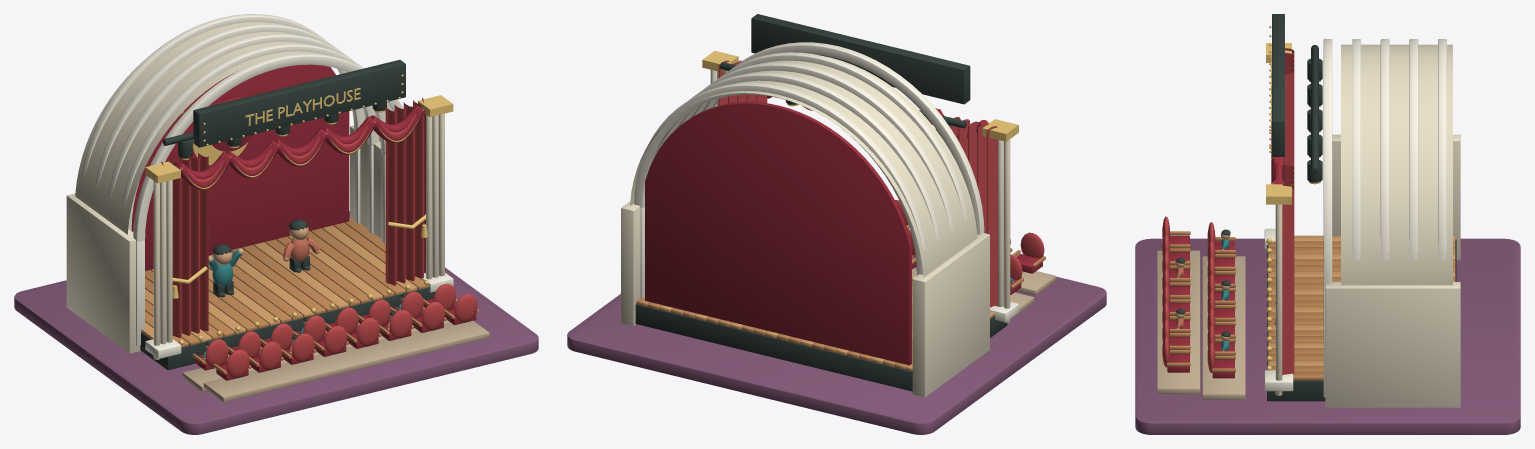
Rendered from playhouse.glb.
3 views of the same model, side by side, from view 1: azimuth 30°, elevation 25°; view 2: azimuth 150°, elevation 25°; view 3: azimuth 270°, elevation 25° (orthographic). The views are drawn at different scales.
Parts seen in each view (by area): view 1: Ivory, Velvet, Velvet Light, Plum, Porcelain, Dark, Maple, Sand, Maple Light, Gold, Teal, Terracotta (+1 smaller); view 2: Velvet, Ivory, Plum, Porcelain, Dark, Velvet Light, Maple, Gold, Sand, Maple Light; view 3: Ivory, Plum, Porcelain, Maple, Sand, Velvet Light, Dark, Velvet, Maple Light, Gold.
Part boxes in pixels (x1,y1,x2,y2): Ivory: (66, 22, 444, 359); Velvet: (131, 64, 476, 380); Velvet Light: (161, 98, 477, 378); Plum: (14, 211, 538, 434); Porcelain: (81, 14, 453, 358); Dark: (140, 59, 435, 370); Maple: (145, 218, 478, 374); Sand: (182, 320, 489, 401); Maple Light: (141, 225, 417, 342); Gold: (145, 74, 453, 345); Teal: (203, 249, 401, 357); Terracotta: (283, 237, 389, 352); Velvet: (645, 60, 1042, 365); Ivory: (621, 57, 1010, 397); Plum: (567, 266, 1106, 434); Porcelain: (634, 42, 1019, 322); Dark: (635, 14, 1007, 391); Velvet Light: (718, 60, 1044, 307); Maple: (636, 224, 1045, 369); Gold: (702, 51, 1018, 281); Sand: (912, 266, 1056, 317); Maple Light: (659, 294, 994, 371); Ivory: (1275, 44, 1460, 407); Plum: (1135, 238, 1520, 434); Porcelain: (1264, 39, 1446, 397); Maple: (1166, 231, 1455, 380); Sand: (1157, 250, 1245, 399); Velvet Light: (1162, 48, 1294, 375); Dark: (1176, 14, 1456, 401); Velvet: (1167, 122, 1284, 378); Maple Light: (1268, 235, 1455, 366); Gold: (1266, 25, 1320, 370).
Bounding box in the file's own units: 8.4 × 6.1 × 7.4.
